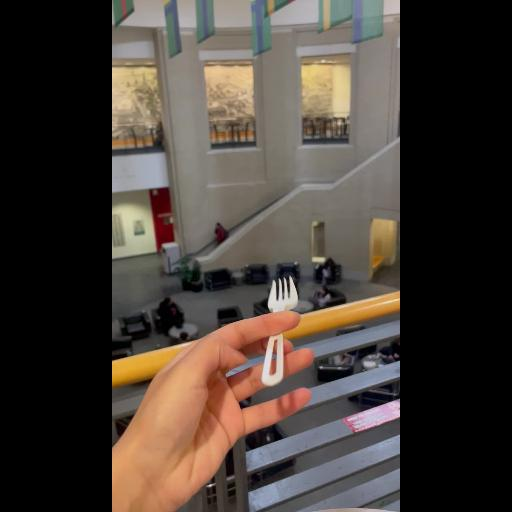utensil: (247, 254, 311, 422)
